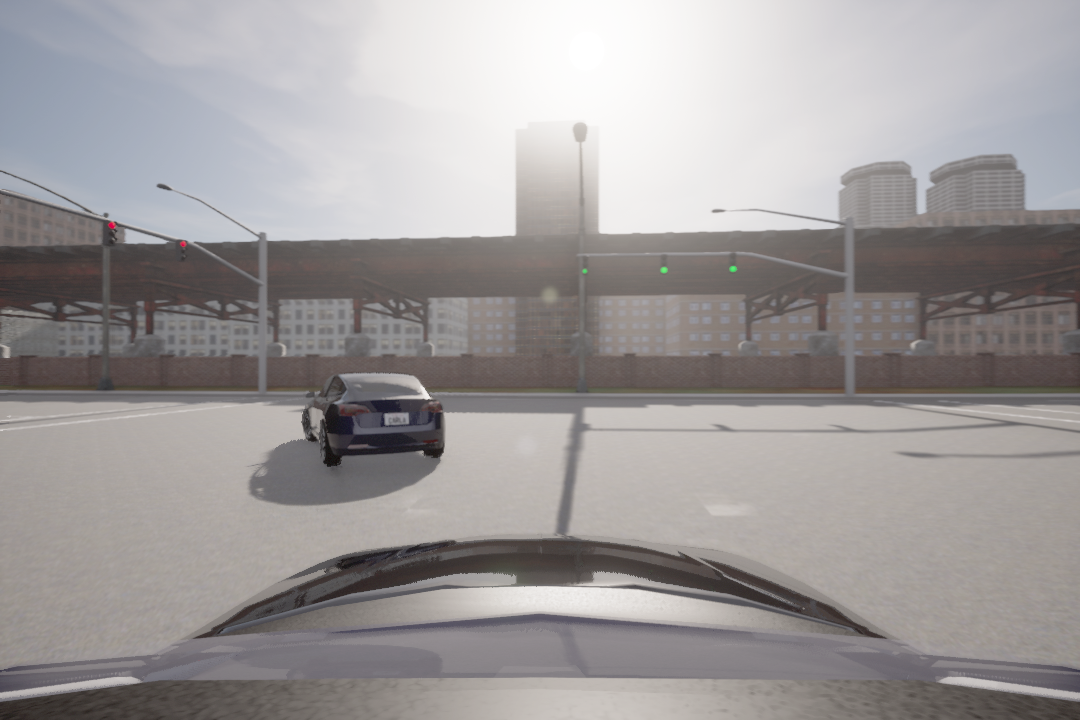TrafficLight: (102, 217, 122, 247), (176, 233, 190, 264), (727, 249, 739, 277), (580, 252, 592, 279), (659, 250, 671, 276)
